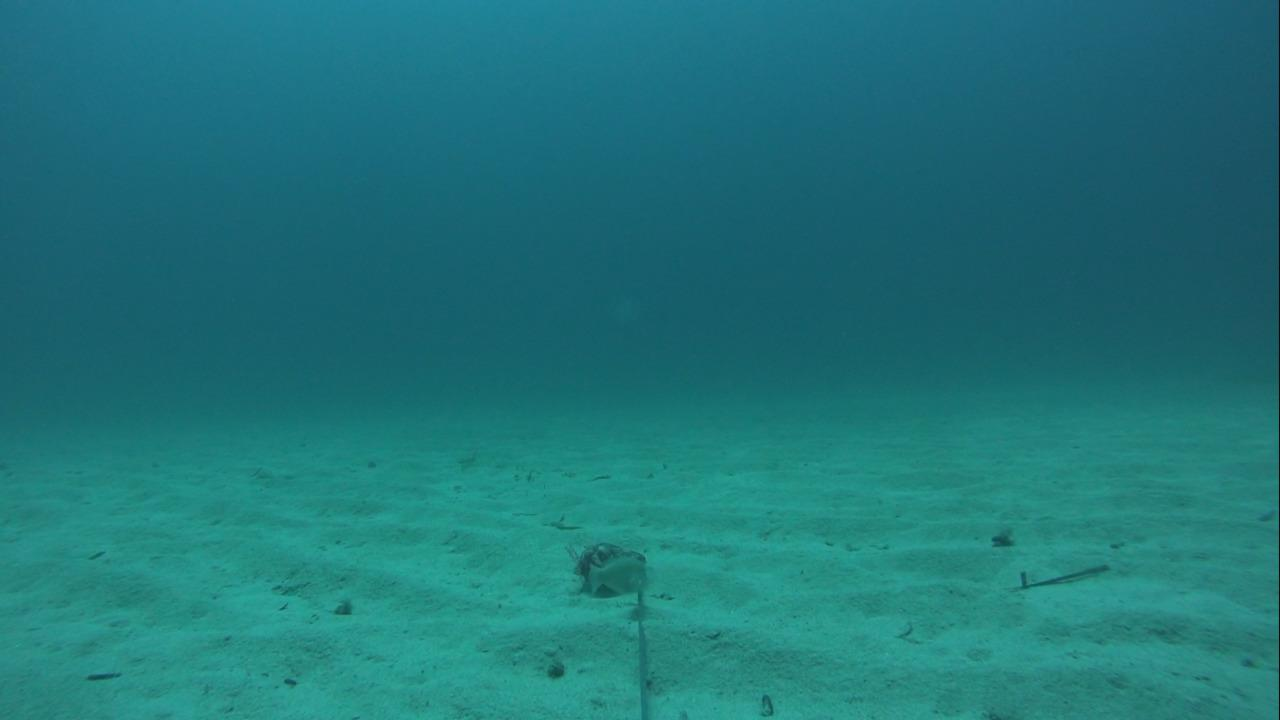raor: (578, 551, 651, 598)
